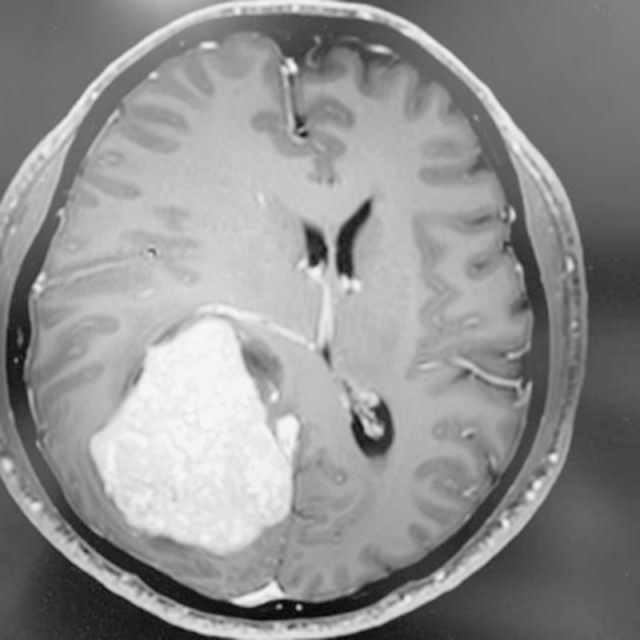meningioma tumor: (83, 296, 336, 560)
